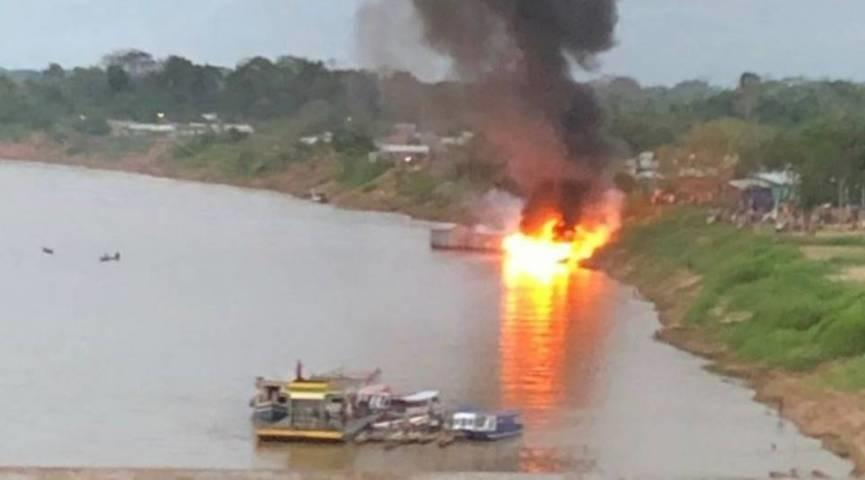fire: (504, 229, 588, 263)
smoke: (481, 86, 593, 179), (430, 6, 564, 79)
